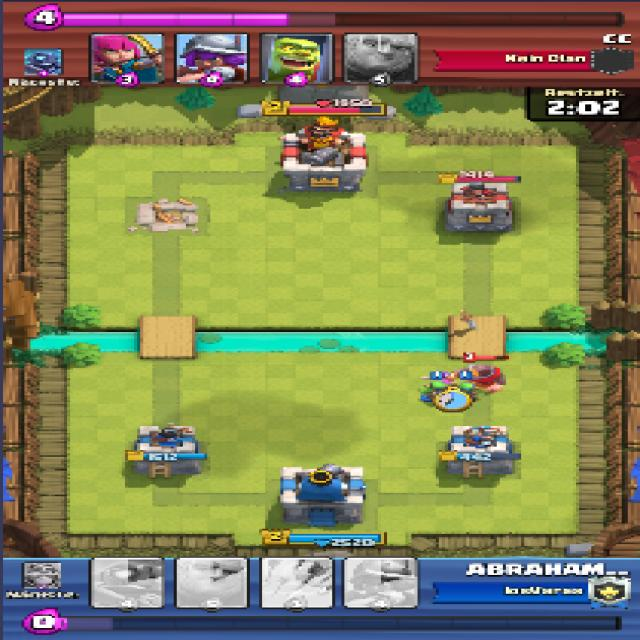Enemy-Knight: (454, 365, 509, 391)
Player-SpearGoblin: (418, 380, 448, 402), (450, 382, 477, 402)
